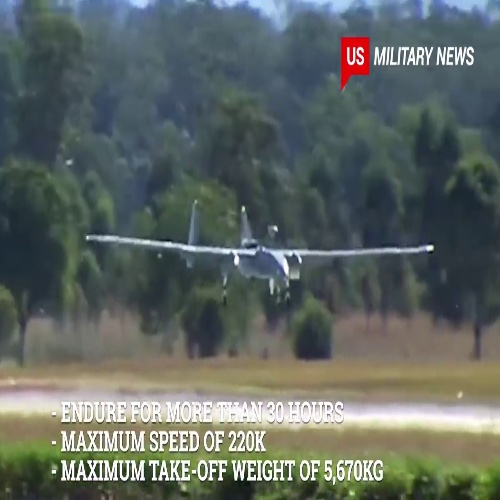uav599: (83, 197, 438, 306)
